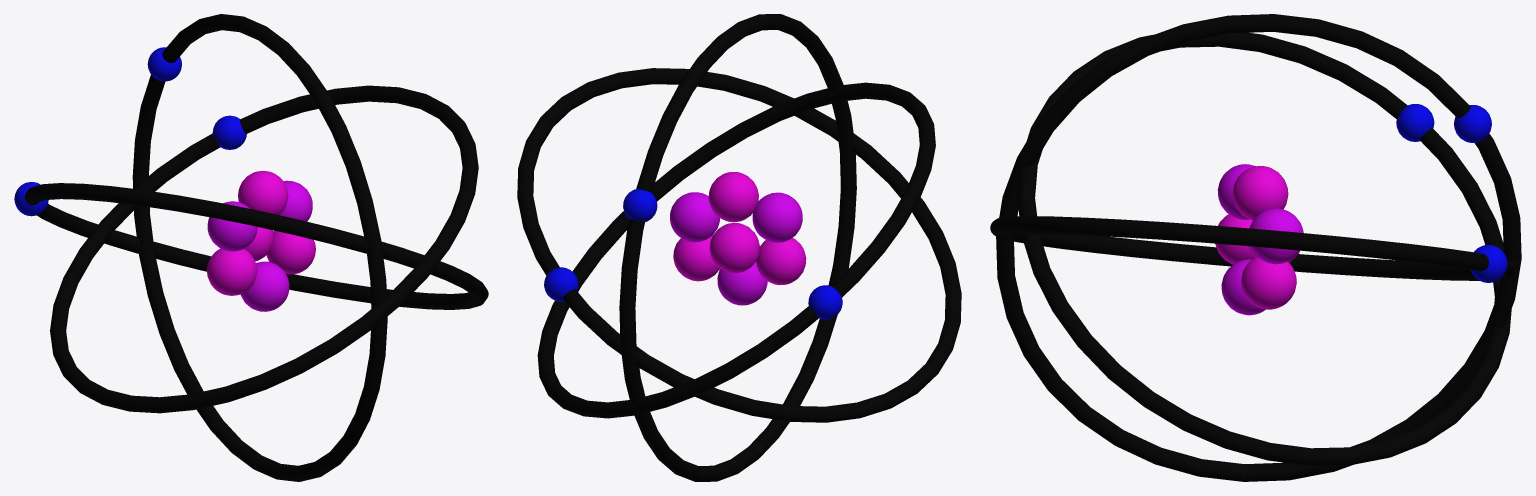
The model's file is atom.glb.
The picture shows the model from 3 angles, left to right: view 1: azimuth 30°, elevation 25°; view 2: azimuth 150°, elevation 25°; view 3: azimuth 270°, elevation 25°; orthographic projection. The views are drawn at different scales.
Visible parts, largest first — view 1: LITHIUM ATOM.1; view 2: LITHIUM ATOM.1; view 3: LITHIUM ATOM.1.
Part boxes in pixels (x1=…): LITHIUM ATOM.1: x1=14, y1=14, x2=488, y2=481; LITHIUM ATOM.1: x1=517, y1=14, x2=961, y2=481; LITHIUM ATOM.1: x1=990, y1=14, x2=1521, y2=481.
Size of the model in its own units: 4.09 by 4.52 by 4.58.
1 material, 1 textured.
